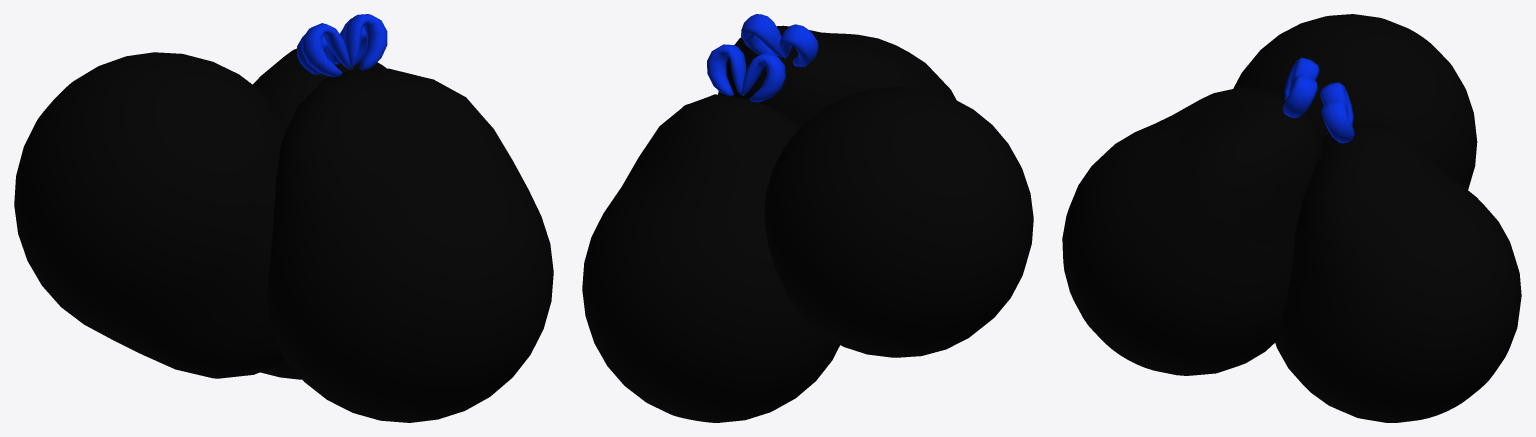
File: Bags.fbx
3 views of the same model, side by side, from view 1: azimuth 30°, elevation 25°; view 2: azimuth 150°, elevation 25°; view 3: azimuth 270°, elevation 25° (orthographic). The views are drawn at different scales.
Parts seen in each view (by area): view 1: Bag, bag, bag.001; view 2: bag.001, bag, Bag; view 3: Bag, bag.001, bag.
Part boxes in pixels (<box>): Bag: <box>268,14,553,422</box>; bag: <box>14,52,288,378</box>; bag.001: <box>253,18,386,379</box>; bag.001: <box>582,44,839,422</box>; bag: <box>764,87,1033,357</box>; Bag: <box>718,14,956,126</box>; Bag: <box>1062,57,1322,375</box>; bag.001: <box>1275,82,1521,422</box>; bag: <box>1233,14,1477,189</box>.
Size of the model in its own units: 578 by 505 by 623.
